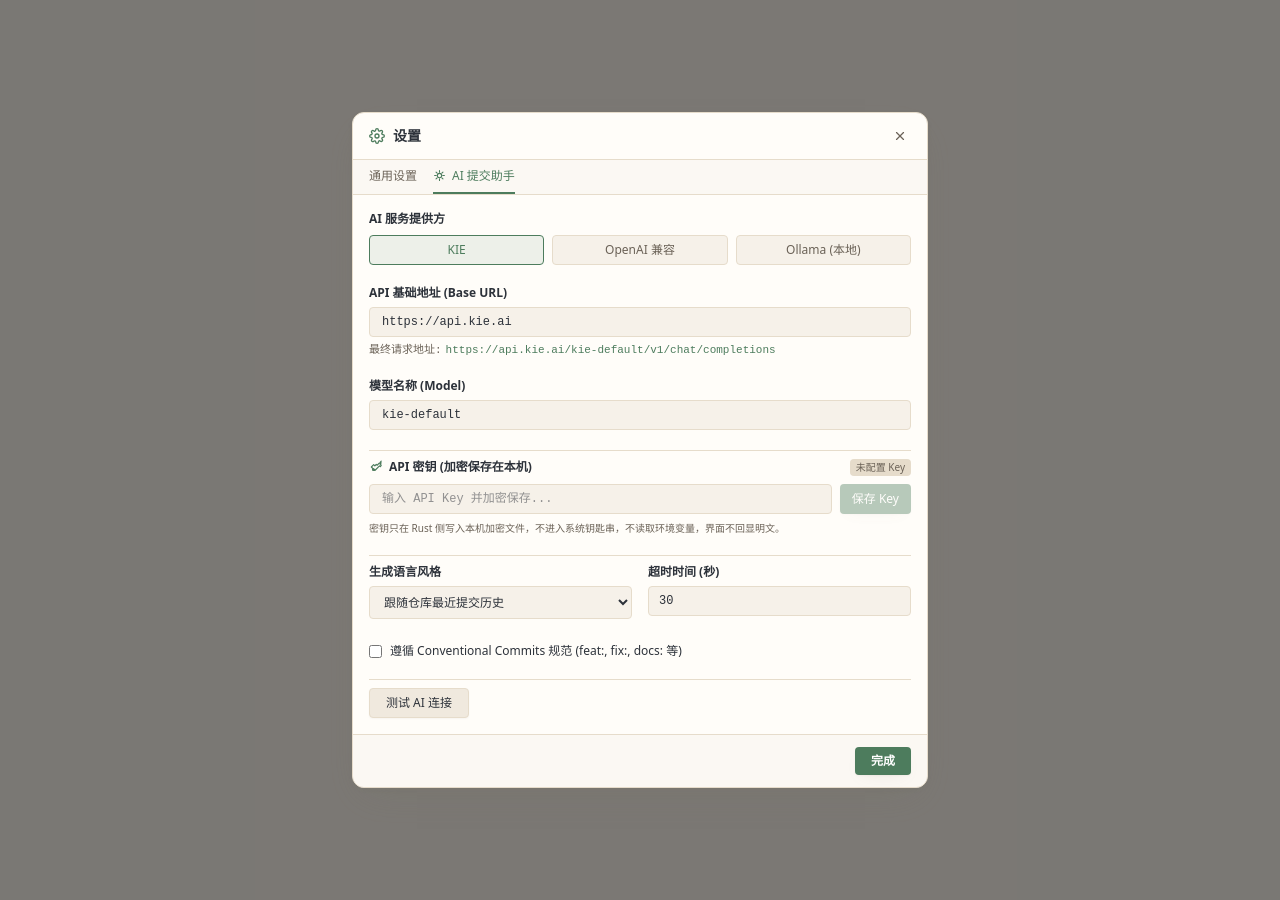
Test case: SettingsModal component › AT-13j: tests AI connection and displays feedback
This screenshot has width=1280, height=900.
Click the button "测试 AI 连接" at (419, 703), box [369,688,469,718]
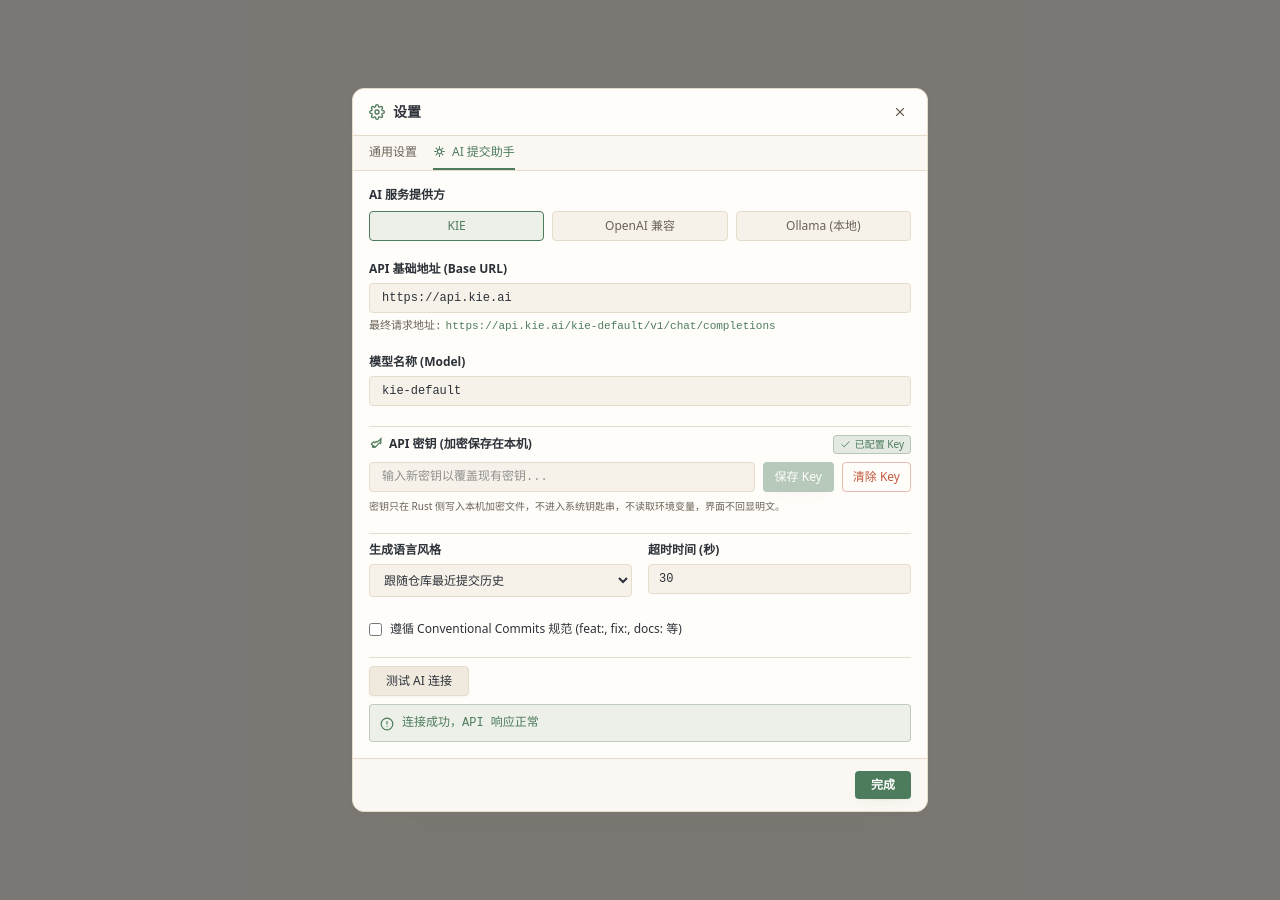
Expected: the text "连接成功，API 响应正常" is shown, [402,715,539,731]
